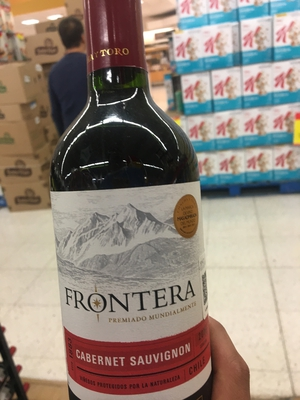frontera cabernet sauvignon: (45, 17, 218, 400)
